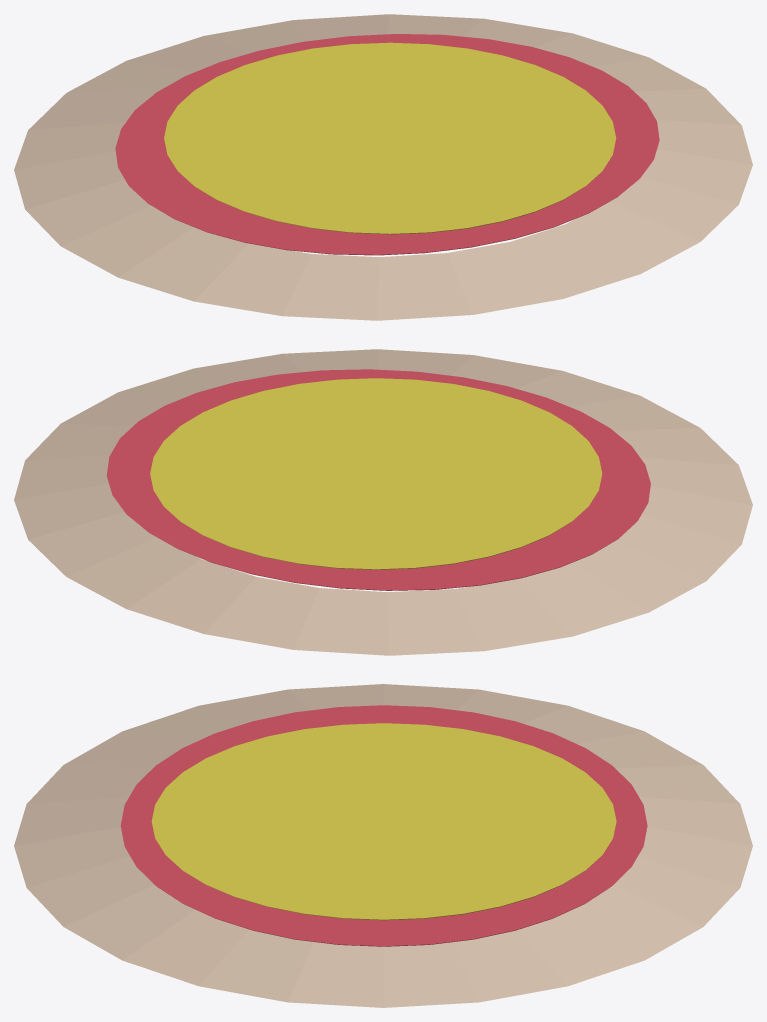
The model's file is crust-cheese (1).glb.
The picture shows the model from 3 angles, top to bottom: view 1: azimuth 30°, elevation 25°; view 2: azimuth 150°, elevation 25°; view 3: azimuth 270°, elevation 25°; orthographic projection. The views are drawn at different scales.
Parts seen in each view (by area): view 1: Mesh_Mesh_head_geo.001_lambert2SG.001; view 2: Mesh_Mesh_head_geo.001_lambert2SG.001; view 3: Mesh_Mesh_head_geo.001_lambert2SG.001.
Part boxes in pixels (x1=…): Mesh_Mesh_head_geo.001_lambert2SG.001: x1=14, y1=14, x2=752, y2=320; Mesh_Mesh_head_geo.001_lambert2SG.001: x1=14, y1=349, x2=752, y2=655; Mesh_Mesh_head_geo.001_lambert2SG.001: x1=14, y1=684, x2=752, y2=1007.
Bounding box in the file's own units: 124 × 8.46 × 119.
